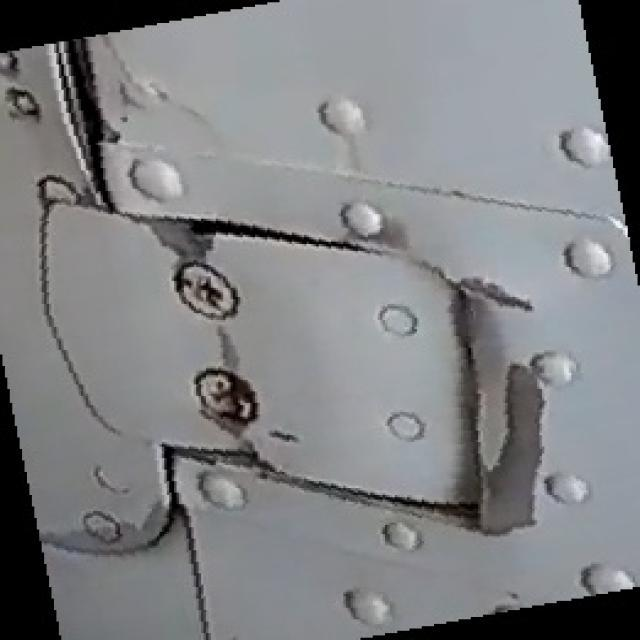crack: (207, 319, 254, 369)
